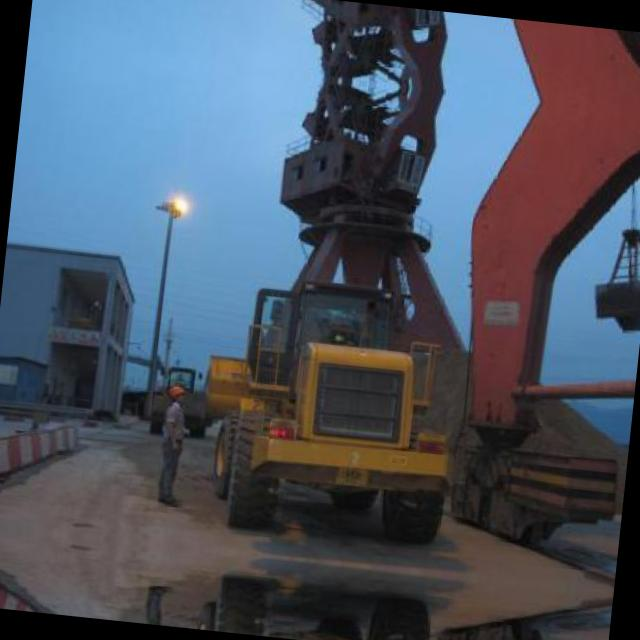helmet: (165, 380, 187, 406)
